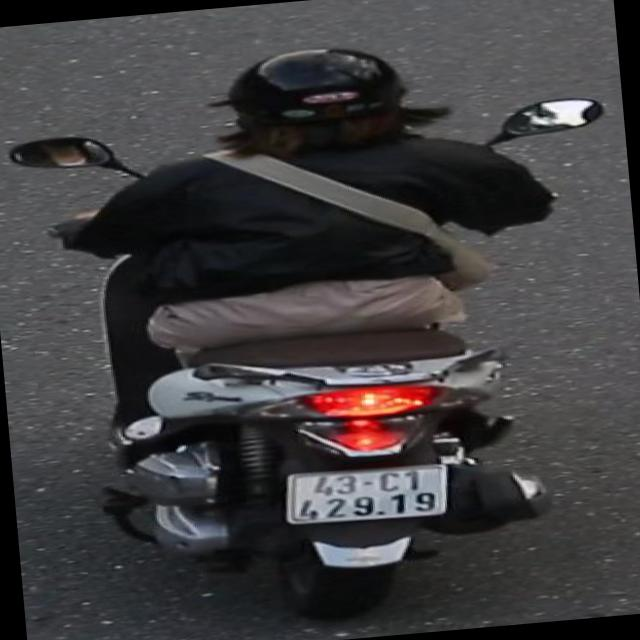LP: (276, 453, 458, 533)
helmet: (204, 34, 426, 160)
